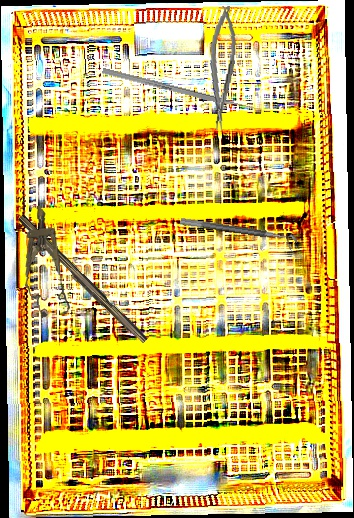Fixation Ring: (178, 216, 298, 254)
Needle Holder: (202, 5, 241, 132)
Pusher: (101, 67, 266, 115)
Scalpel Handle: (13, 213, 151, 347)
Speculum: (17, 204, 73, 319)
